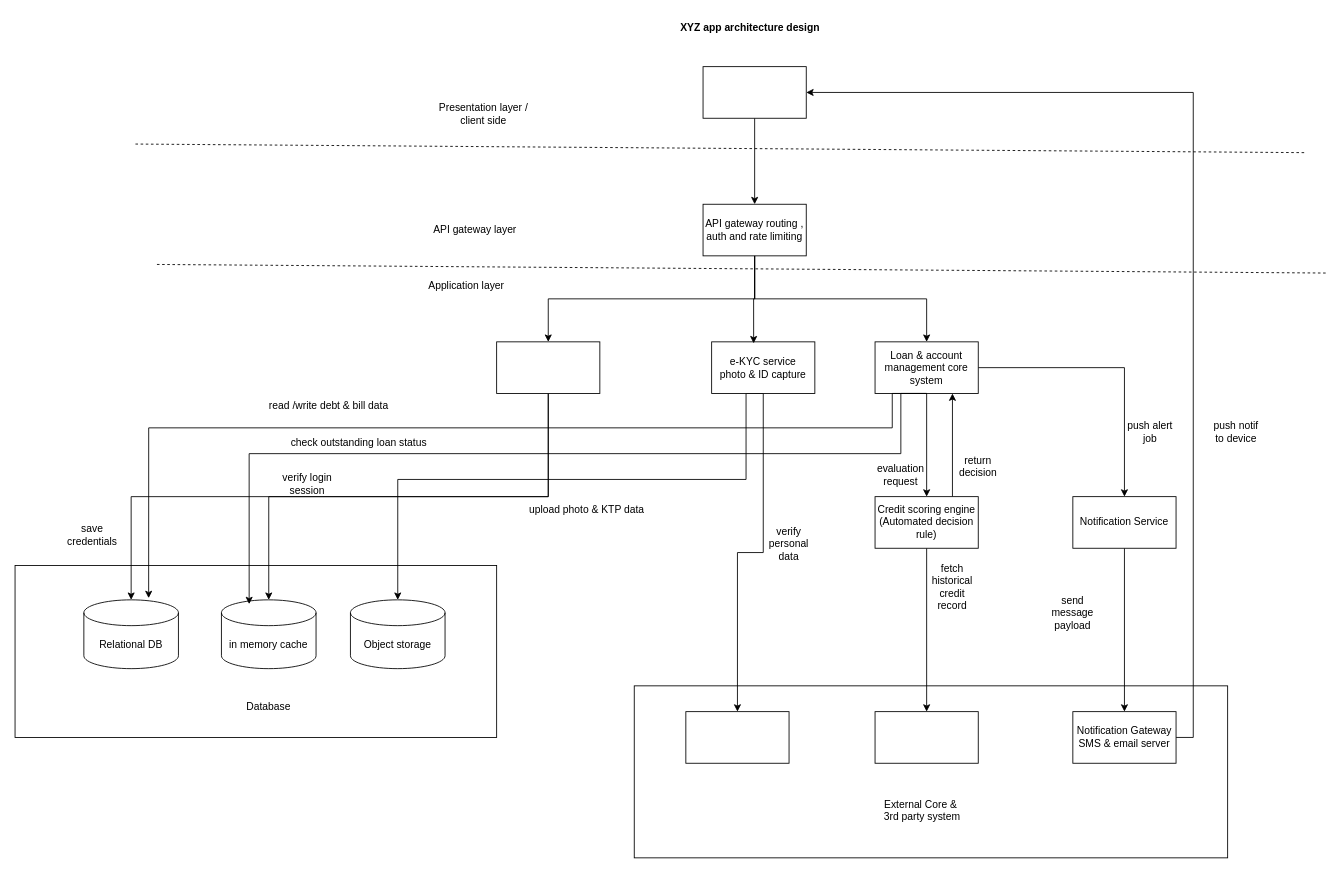
The diagram is 1342 pixels wide and 873 high, and some of its shapes have lost their labels. Here are the shapes that lost their labels. From the top down, the centre of each, then its label:
At point (754, 92): "XYZ mobile app".
At point (548, 367): "Auth & user service manage registration".
At point (737, 737): "Dukcapil ID verification API".
At point (926, 737): "SLIK OJK / credit history check API".
